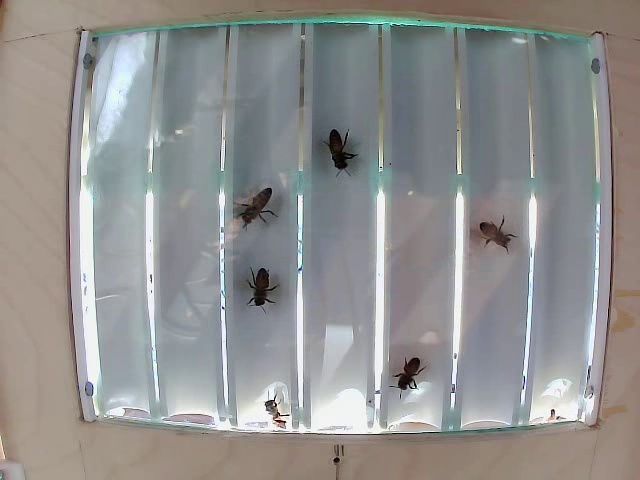bee: (390, 350, 428, 398), (234, 192, 278, 232), (322, 130, 366, 166), (245, 264, 281, 306), (478, 211, 510, 255), (263, 397, 289, 429)
